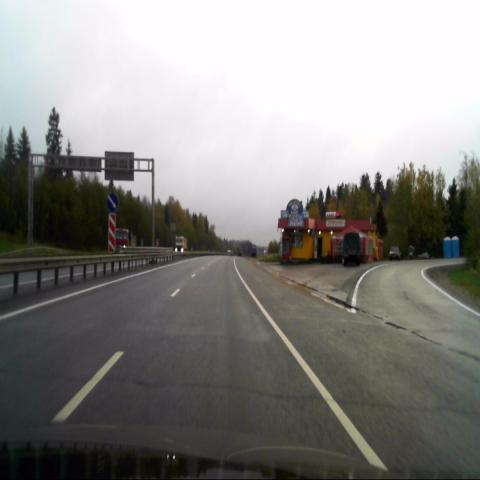4_2_1: (107, 193, 118, 212)
